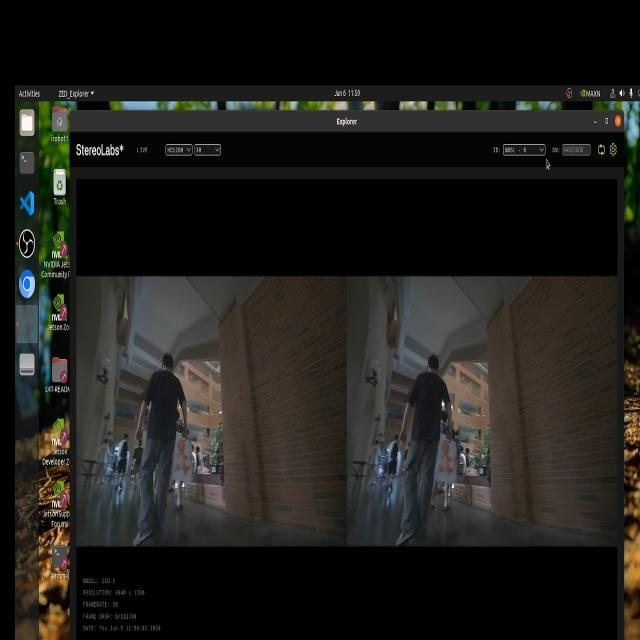red: (170, 438, 194, 486), (439, 441, 459, 479)
